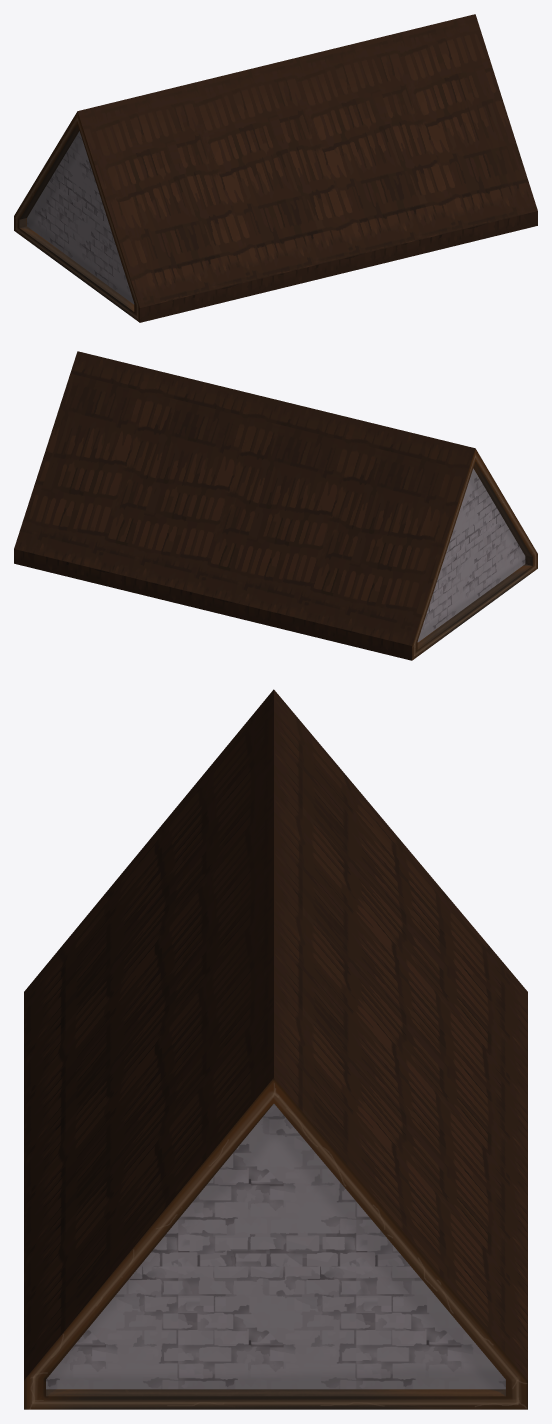
The model's file is City Modular Brick Roof 1.fbx.
3 renders of one model, top to bottom at view 1: azimuth 30°, elevation 25°; view 2: azimuth 150°, elevation 25°; view 3: azimuth 270°, elevation 25°, orthographic. The views are drawn at different scales.
Visible parts, largest first — view 1: Cube.010; view 2: Cube.010; view 3: Cube.010.
Part boxes in pixels (x1,y1,x2,y2): Cube.010: [14, 14, 537, 322]; Cube.010: [14, 351, 537, 660]; Cube.010: [24, 689, 527, 1409].
Size of the model in its own units: 1254 by 500 by 687.
